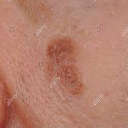Melanoma: (46, 37, 86, 95)
